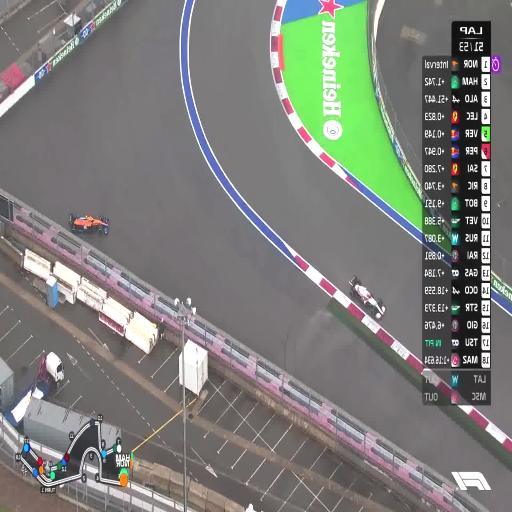f1_car: (349, 275, 386, 319), (69, 213, 109, 235)
